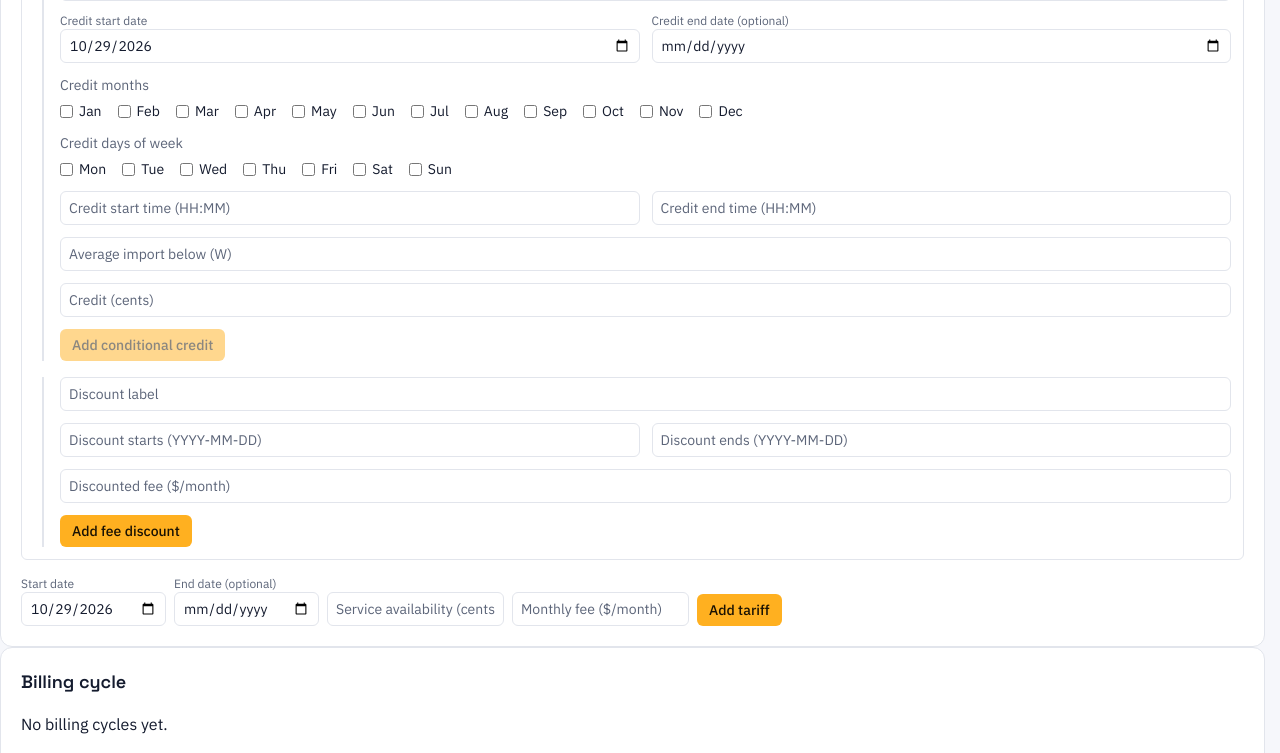
Test: Billing tabs › shows an error when creating a monthly fee discount window fails
This screenshot has width=1280, height=753.
(page scrolled)
Type "New customer promo" into the field with placeholder "Discount label" at (646, 394), box [60,377,1231,411]
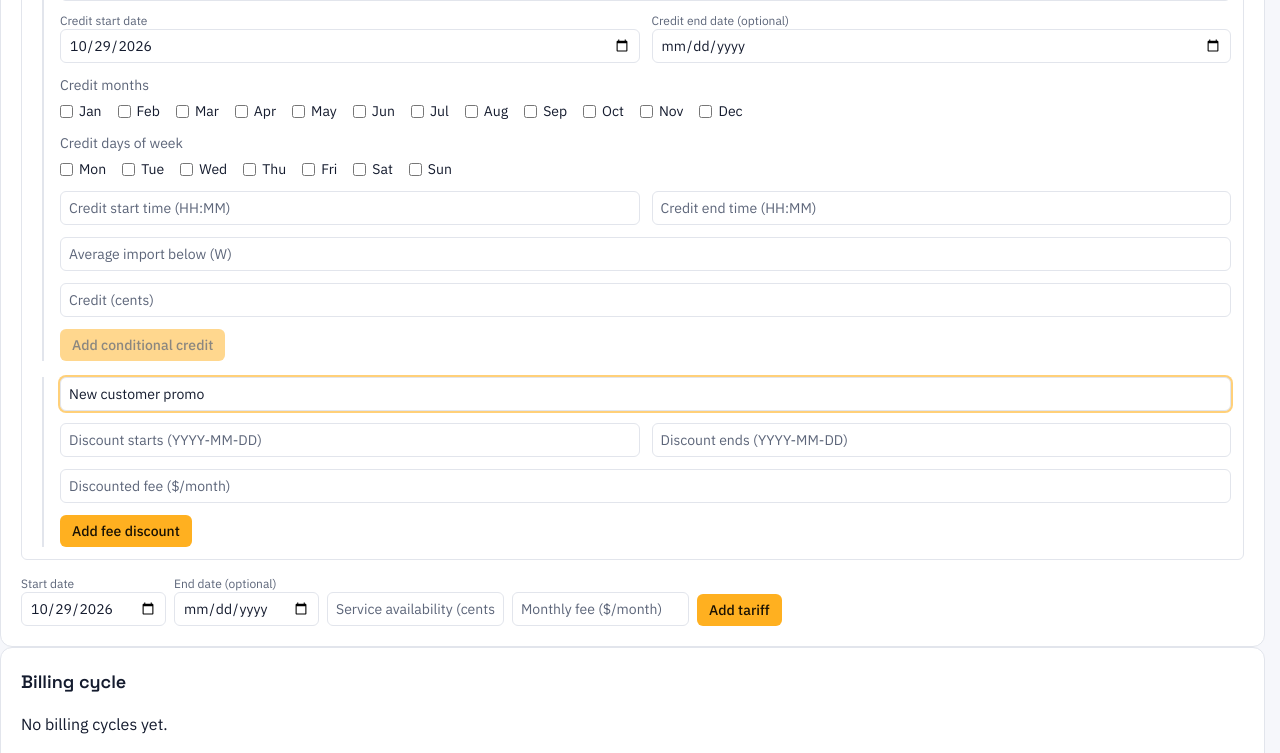
Type "2026-01-01" into the field with placeholder "Discount starts (YYYY-MM-DD)" at (350, 440), box [60,423,640,457]
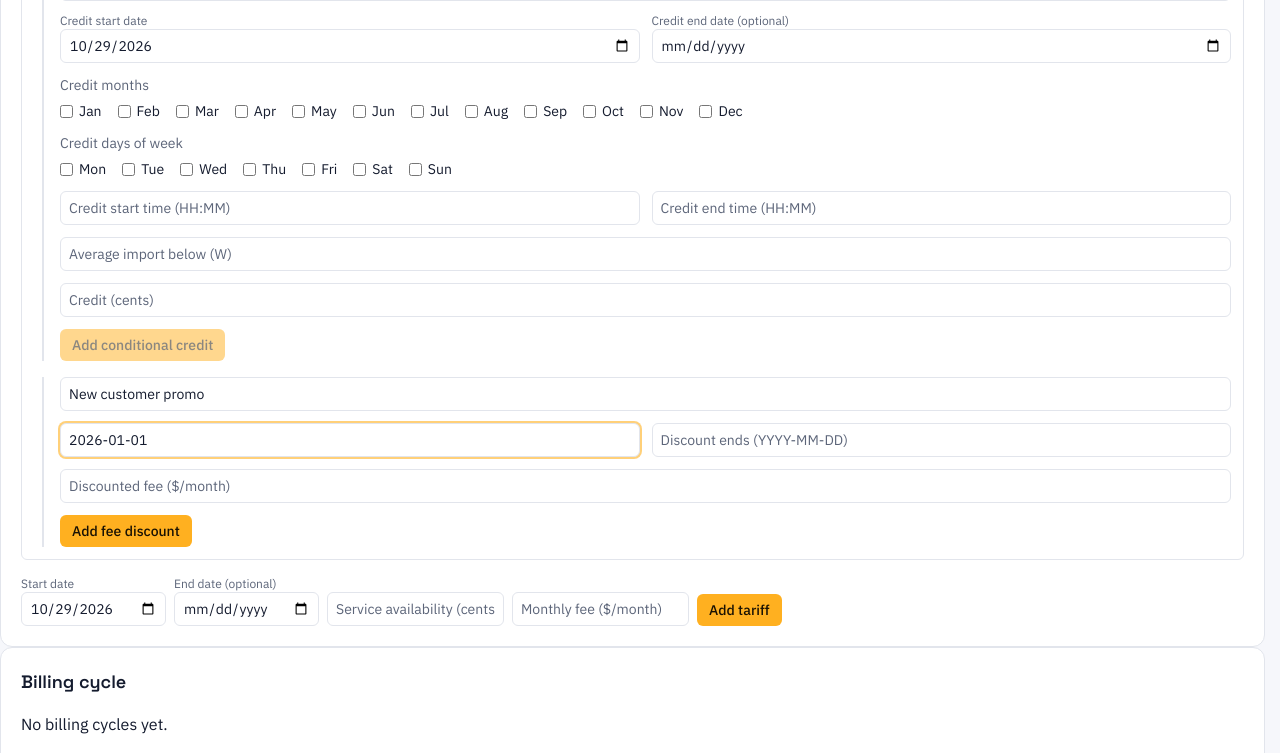
Type "2026-04-01" into the field with placeholder "Discount ends (YYYY-MM-DD)" at (941, 440), box [652,423,1231,457]
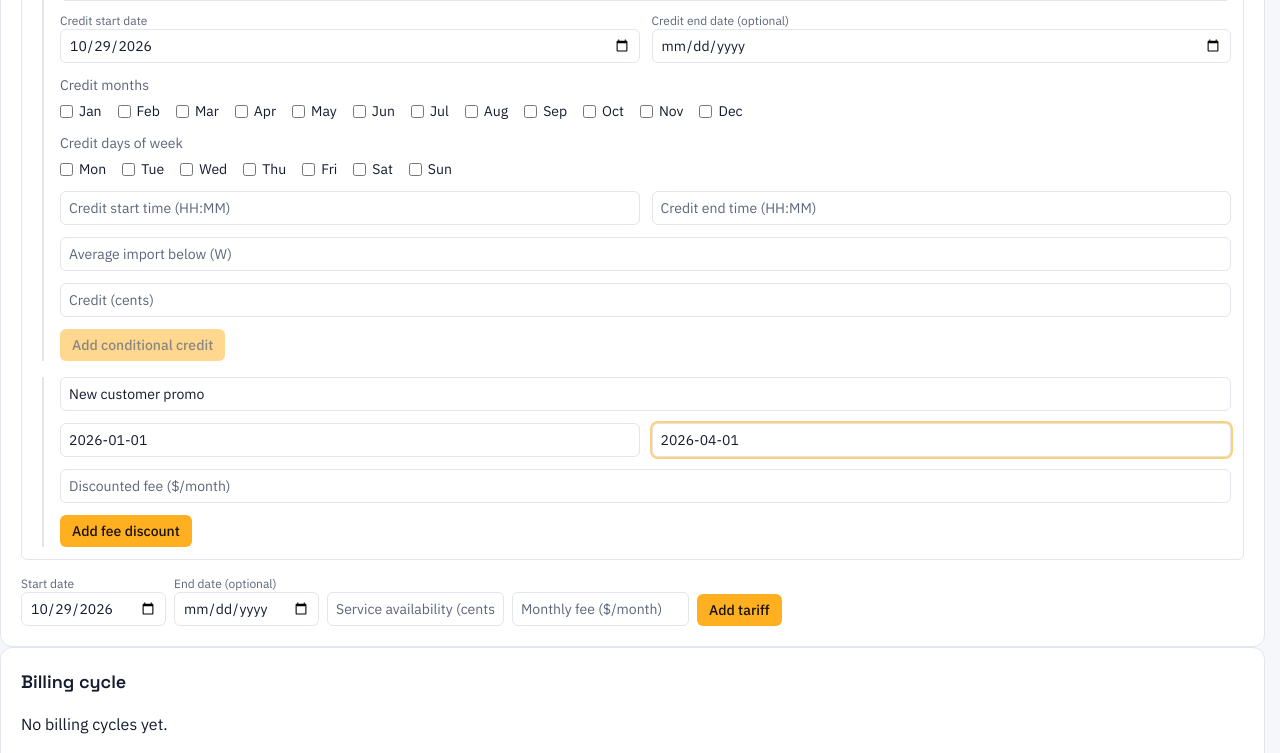
Type "0.00" into the field with placeholder "Discounted fee ($/month)" at (646, 486), box [60,469,1231,503]
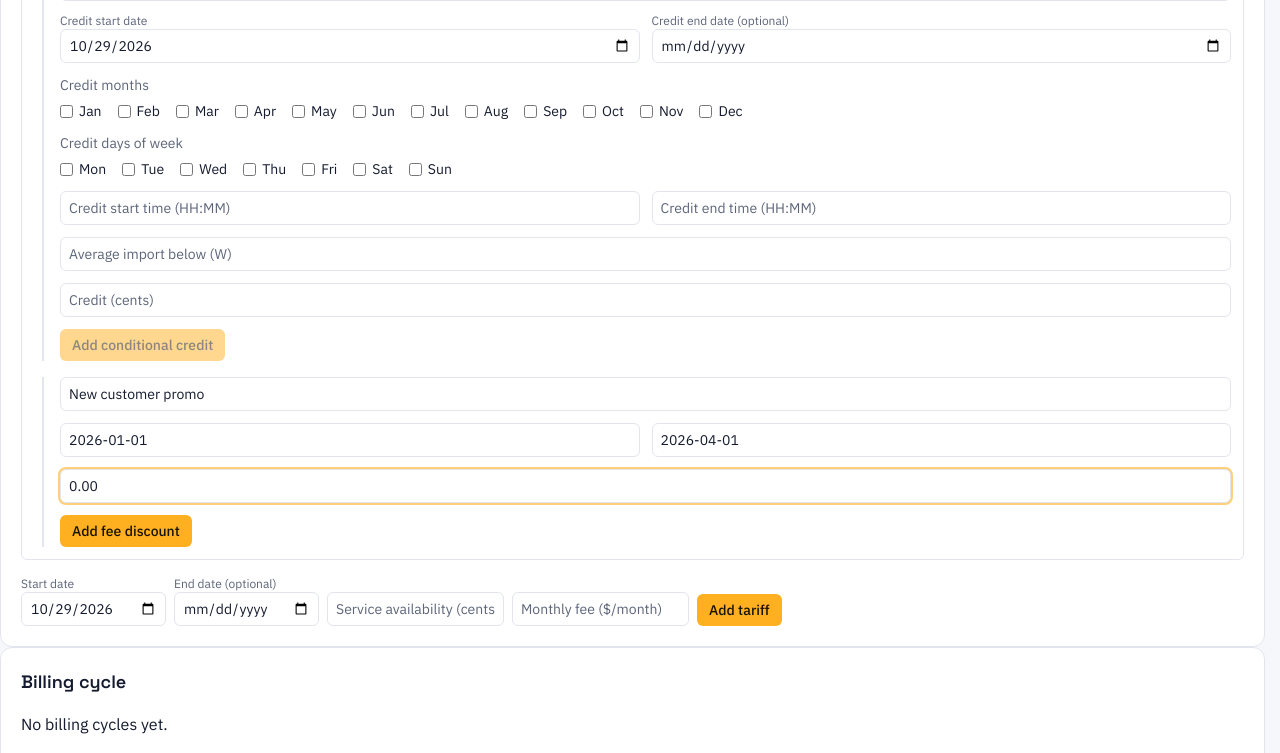
Click the button "Add fee discount" at (126, 531), box [60,515,192,547]
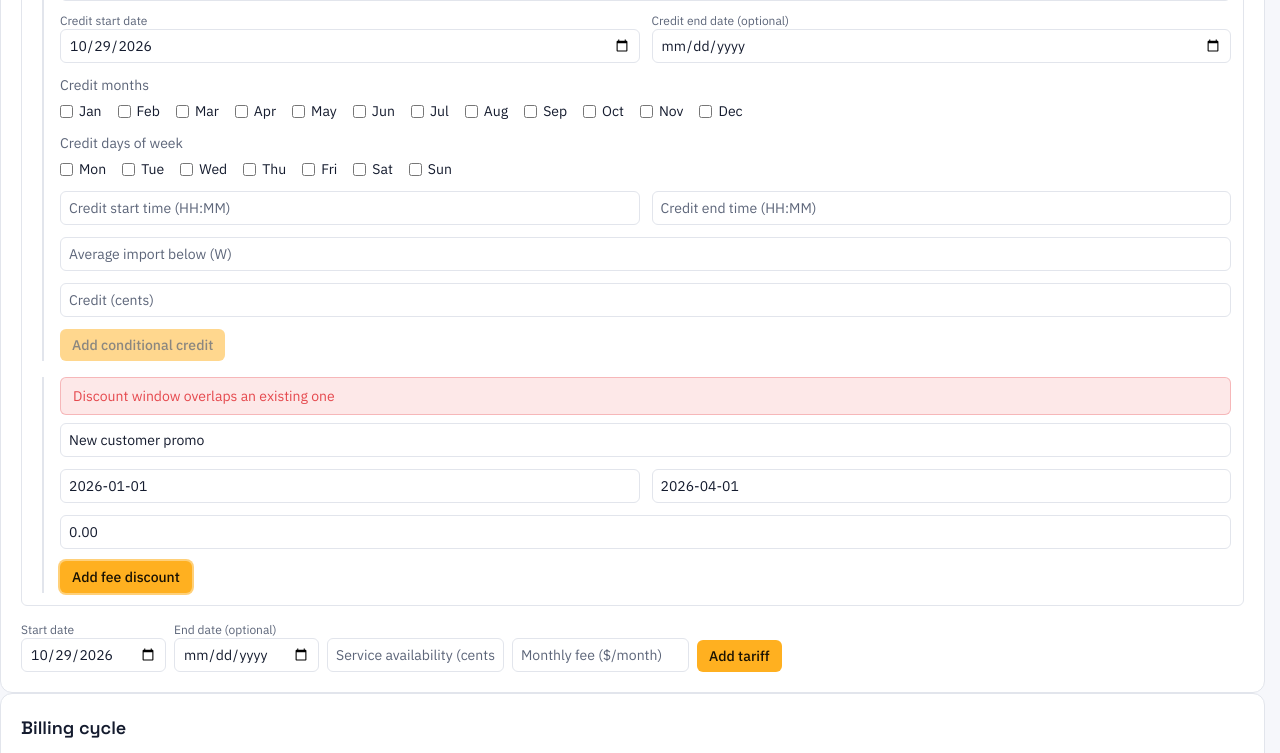
Expected: the message reads "Discount window overlaps an existing one", [73,387,335,405]
